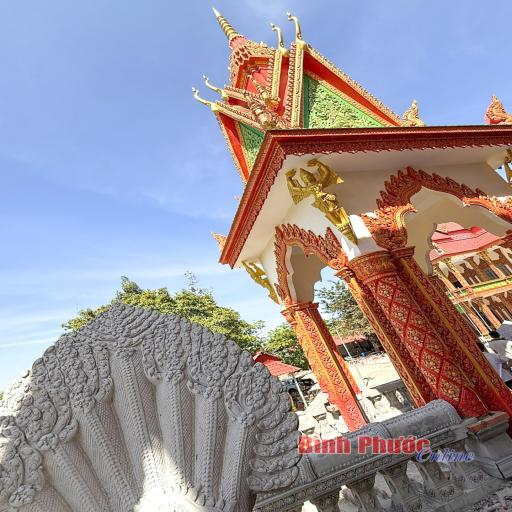lua: (194, 73, 250, 103), (276, 7, 314, 50), (188, 86, 227, 117), (270, 21, 292, 65)
ran: (0, 291, 316, 512), (238, 92, 294, 134), (246, 72, 279, 107), (483, 91, 512, 129), (399, 98, 429, 130), (208, 227, 229, 254), (229, 194, 244, 204)
than: (271, 159, 361, 247), (238, 260, 282, 310)
